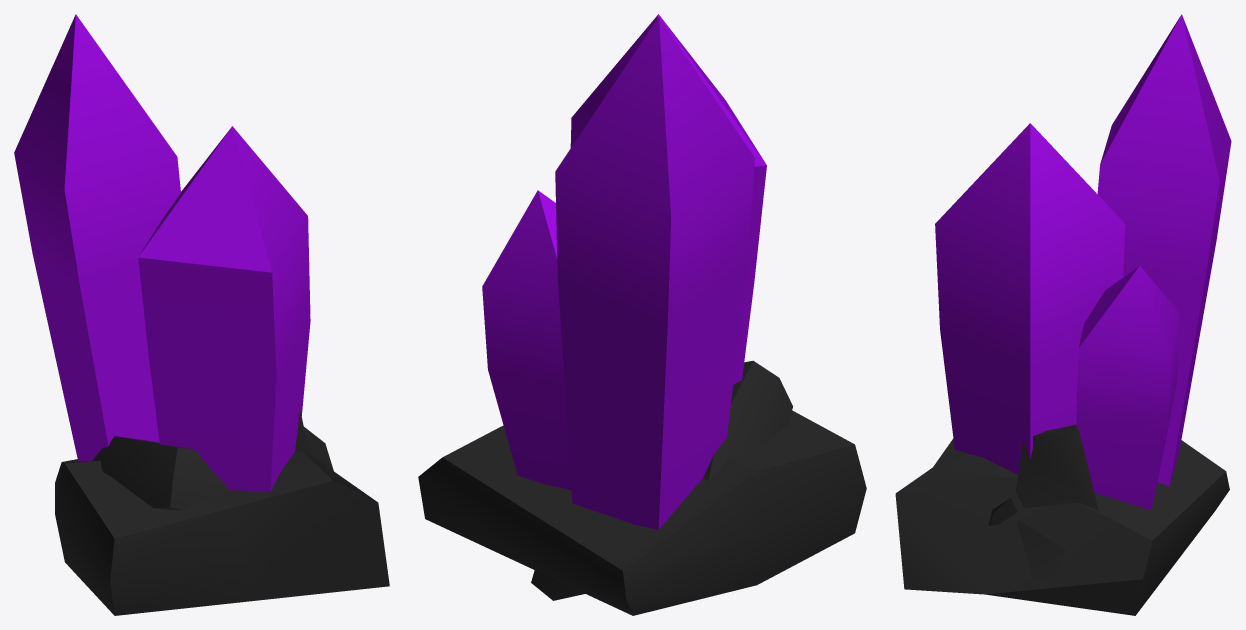
File: Mineral_deposit.fbx
The picture shows the model from 3 angles, left to right: view 1: azimuth 30°, elevation 25°; view 2: azimuth 150°, elevation 25°; view 3: azimuth 270°, elevation 25°; orthographic projection. The views are drawn at different scales.
Parts seen in each view (by area): view 1: Minerals, Rocks; view 2: Minerals, Rocks; view 3: Minerals, Rocks.
Part boxes in pixels (x1,y1,x2,y2): Minerals: [14, 14, 310, 491]; Rocks: [55, 409, 389, 615]; Minerals: [482, 14, 766, 529]; Rocks: [418, 360, 866, 615]; Minerals: [935, 14, 1231, 509]; Rocks: [895, 424, 1229, 615].
Size of the model in its own units: 91.34 by 161 by 90.55.
